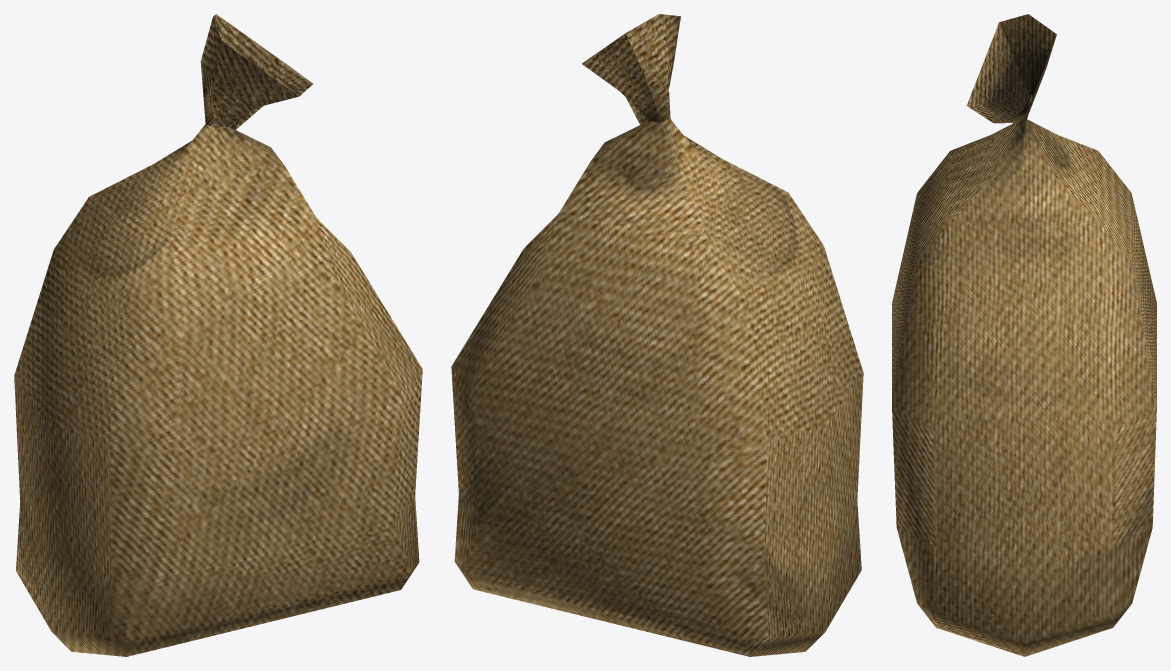
File: bag.FBX
3 views of the same model, side by side, from view 1: azimuth 30°, elevation 25°; view 2: azimuth 150°, elevation 25°; view 3: azimuth 270°, elevation 25° (orthographic). The views are drawn at different scales.
Parts seen in each view (by area): view 1: Box021; view 2: Box021; view 3: Box021.
Boxes of the visible parts, bbox=[...] form: Box021: bbox=[14, 14, 422, 656]; Box021: bbox=[451, 14, 863, 656]; Box021: bbox=[892, 14, 1156, 656].
Size of the model in its own units: 116 by 82.24 by 197.
